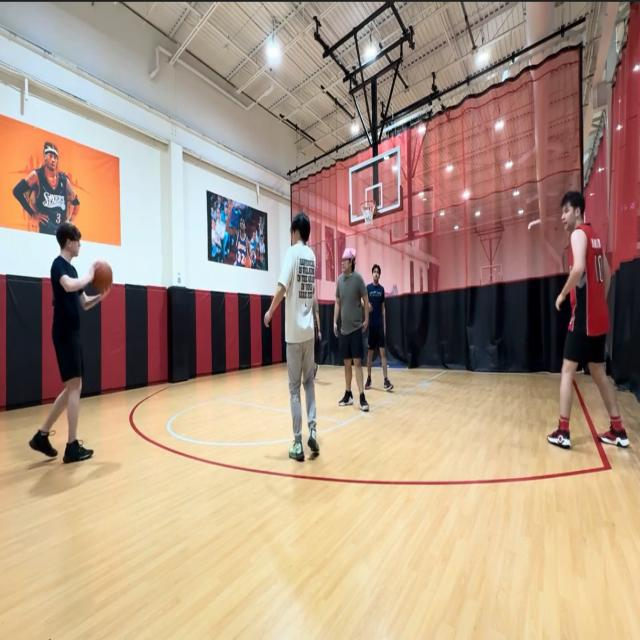Basketball: (91, 258, 112, 290)
Basketball Rim: (360, 201, 376, 226)
Player: (545, 190, 629, 449), (29, 223, 113, 462), (263, 212, 323, 461), (333, 246, 370, 411), (367, 264, 393, 394)
